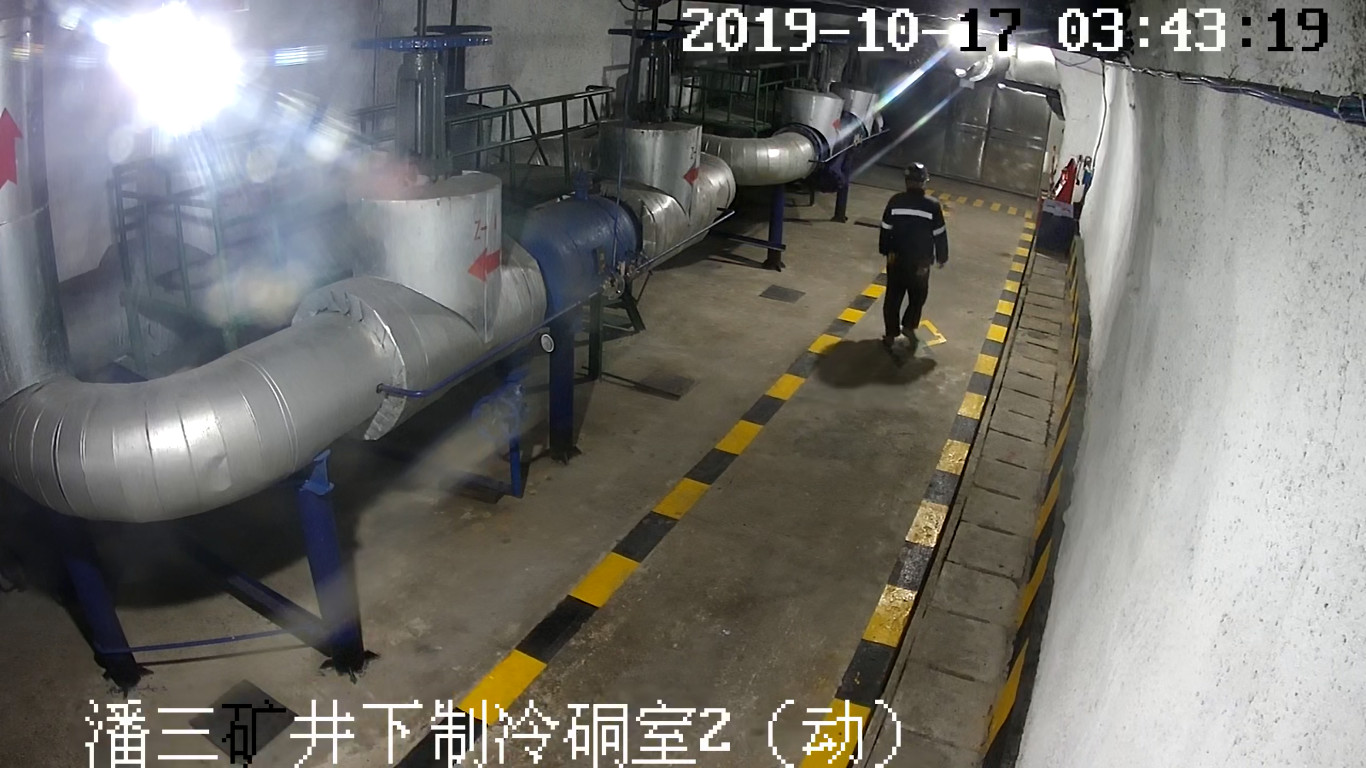helmet: (903, 161, 930, 182)
